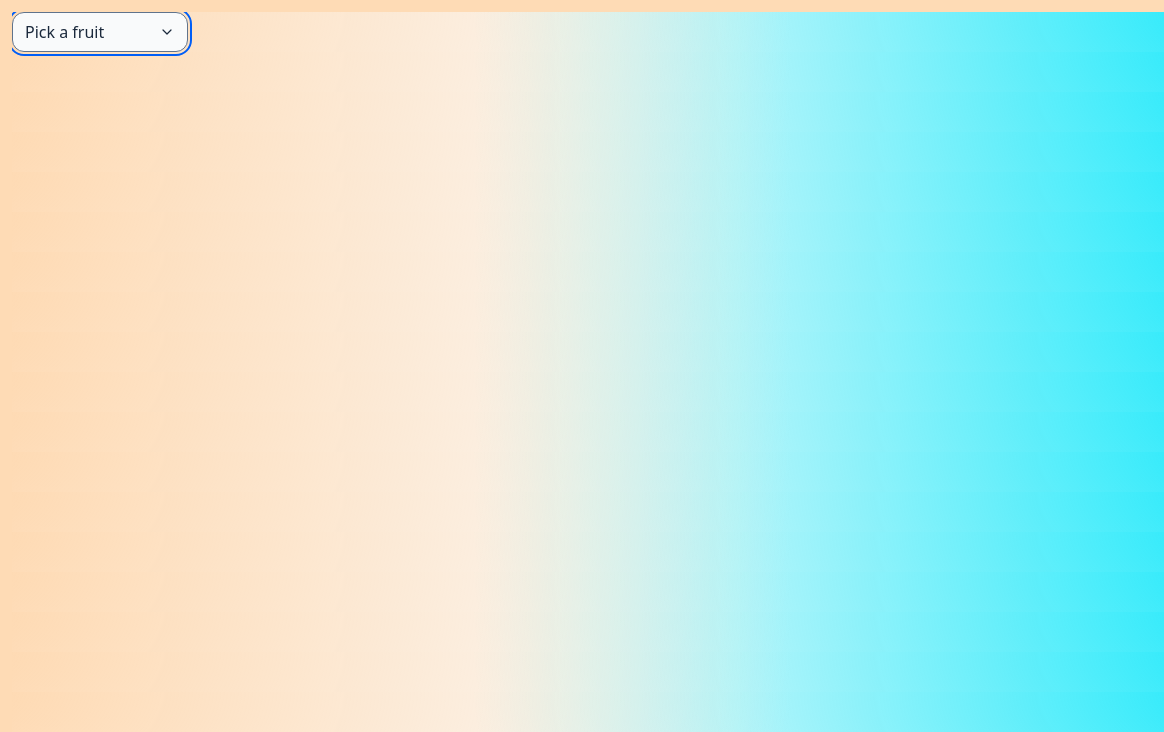
Test: Select › without defaultValue (D14) › shows the placeholder, then the chosen value, and reports the change
The width and height of the screenshot is (1164, 732).
Expected: the dropdown named "Food" reads "Pick a fruit", [12,12,188,52]
Press Enter
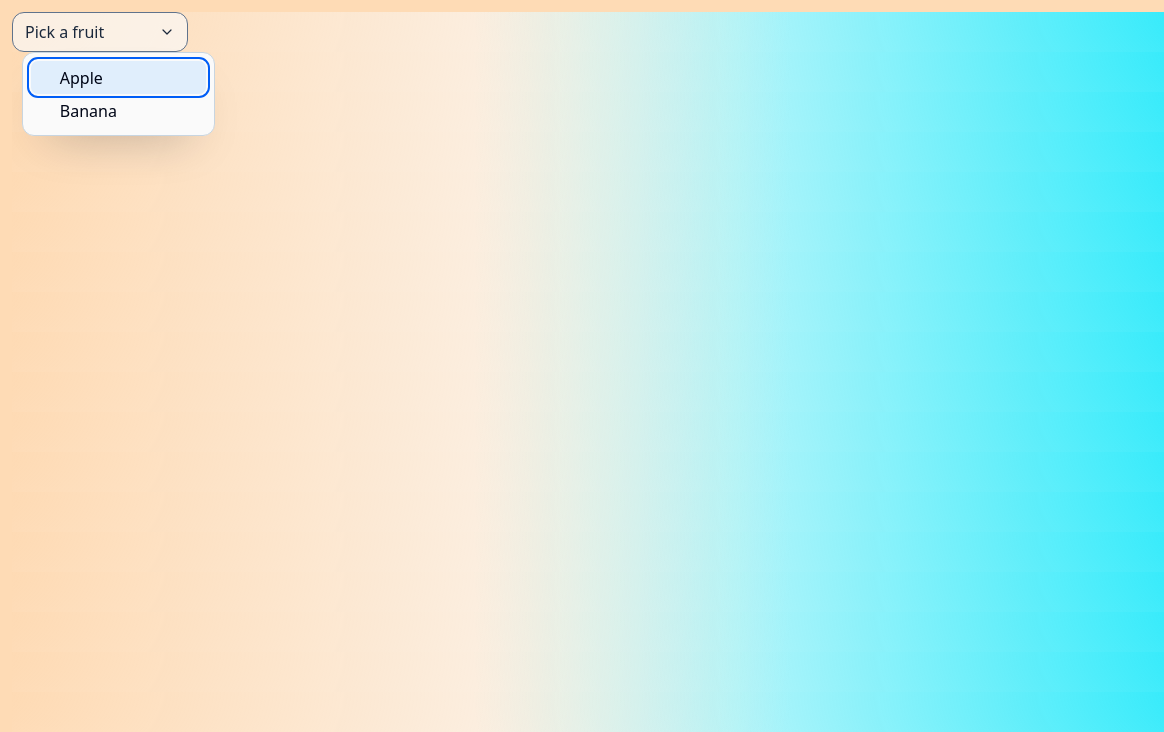
Click the option "Banana" at {"x": 88, "y": 111}, box [60,100,117,122]
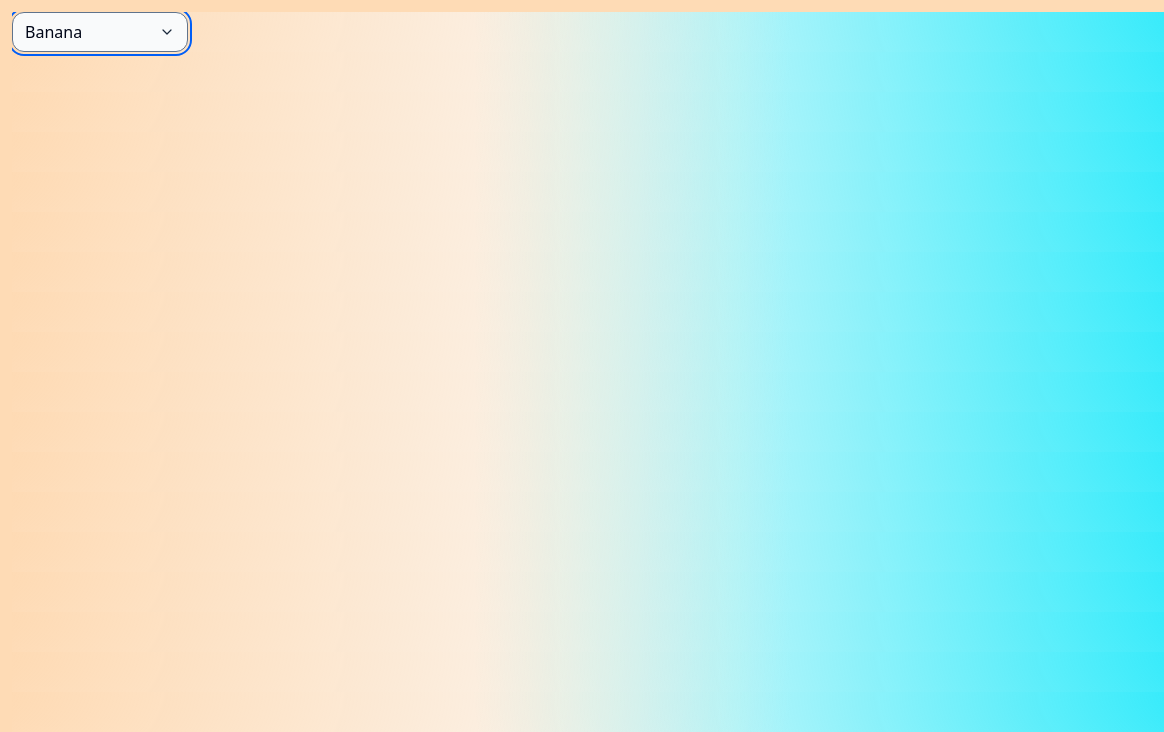
Result: the dropdown named "Food" reads "Banana" at [12,12,188,52]
